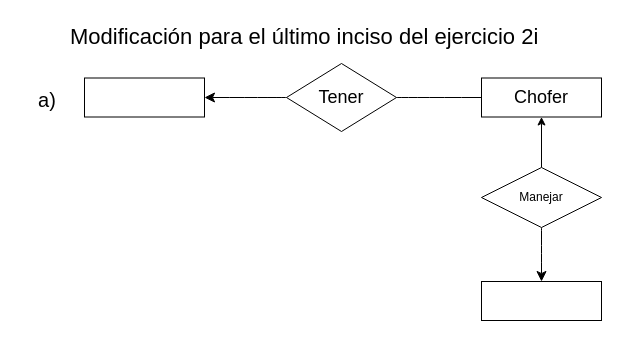
This 619x338 diagram has some shape labels left out. The shapes that lost their labels are listed below. From the top down, each one's centre as x and y in pixels, then its label:
At point 144,97: "Sitio".
At point 541,300: "Taxi".
